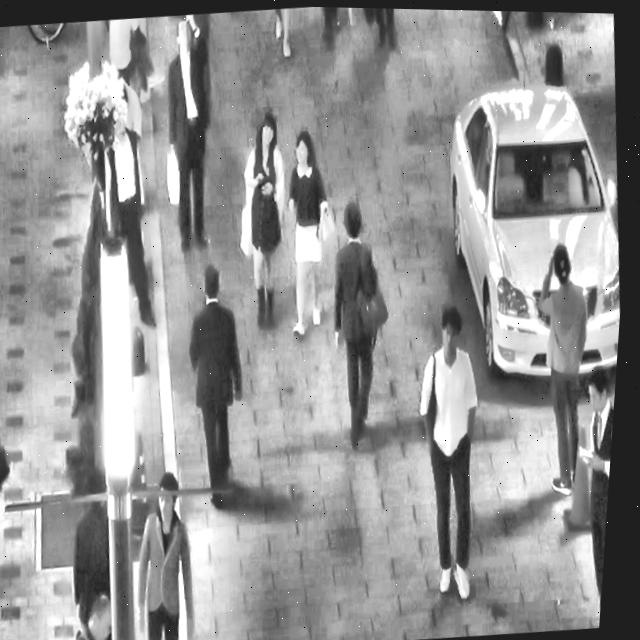light_vehicle: (425, 55, 638, 395)
